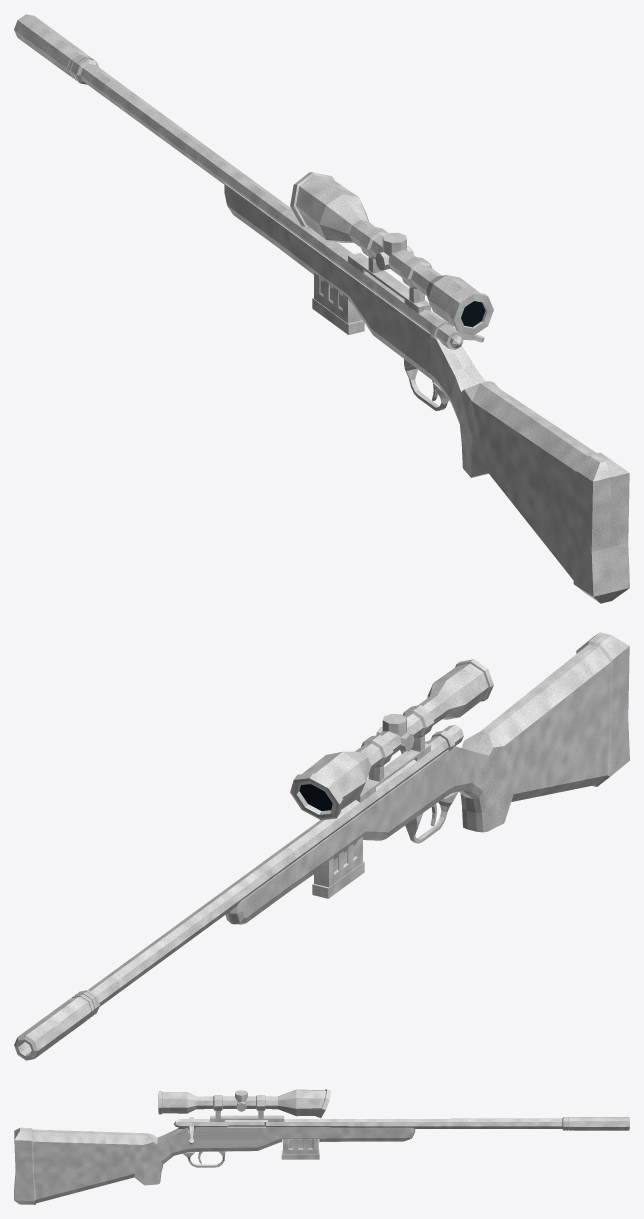
File: marksman2.obj
The picture shows the model from 3 angles, top to bottom: view 1: azimuth 30°, elevation 25°; view 2: azimuth 150°, elevation 25°; view 3: azimuth 270°, elevation 25°; orthographic projection. The views are drawn at different scales.
Visible parts, largest first — view 1: SniperRifle_2_Cylinder.010; view 2: SniperRifle_2_Cylinder.010; view 3: SniperRifle_2_Cylinder.010.
Part boxes in pixels (x1,y1,x2,y2): SniperRifle_2_Cylinder.010: (14,14,629,603); SniperRifle_2_Cylinder.010: (14,632,629,1060); SniperRifle_2_Cylinder.010: (14,1089,629,1204).
Bounding box in the file's own units: 0.0872 × 0.2713 × 1.33.
Materials: 5 (4 with a texture image).
